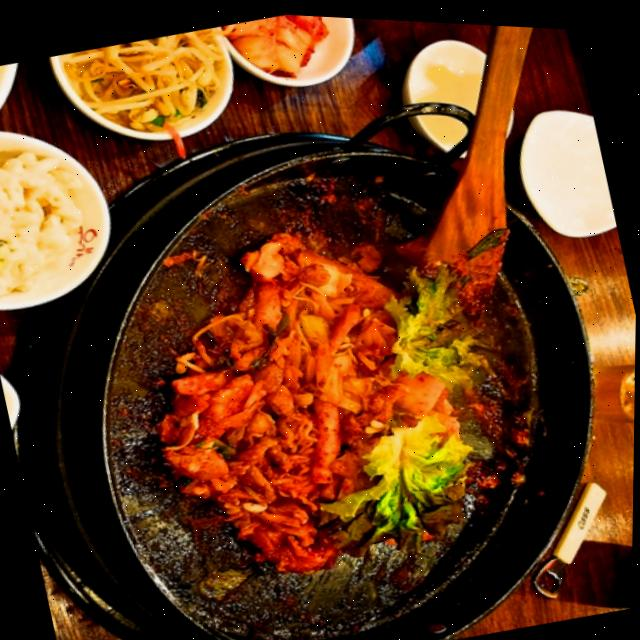鸡肉料理 含炸鸡: (0, 57, 639, 640)
